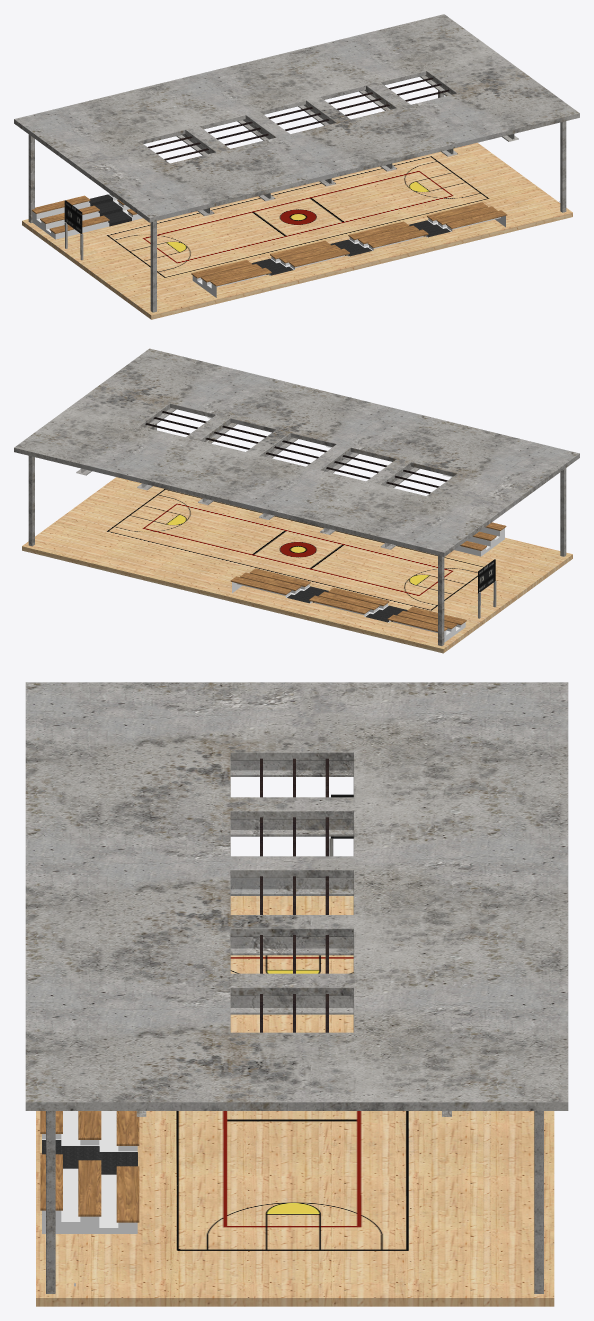
File: gymnasium.obj
3 renders of one model, top to bottom at view 1: azimuth 30°, elevation 25°; view 2: azimuth 150°, elevation 25°; view 3: azimuth 270°, elevation 25°, orthographic. The views are drawn at different scales.
Parts seen in each view (by area): view 1: Object_21, Object_36, Object_12, Object_23, Object_61, Object_16, Object_15, Object_14, Object_13, Object_17, Object_46, Object_40; view 2: Object_21, Object_36, Object_15, Object_23, Object_61, Object_16, Object_17, Object_46, Object_13, Object_12, Object_40; view 3: Object_21, Object_36, Object_12, Object_13, Object_46, Object_23, Object_14.
Part boxes in pixels (x1,y1,x2,y2): Object_21: (14,14,579,222); Object_36: (22,142,572,319); Object_12: (191,202,507,286); Object_23: (148,77,449,160); Object_61: (28,134,156,312); Object_16: (32,193,142,239); Object_15: (32,195,136,233); Object_14: (251,220,450,275); Object_13: (192,216,505,297); Object_17: (89,194,131,226); Object_46: (438,90,566,212); Object_40: (64,200,82,233); Object_21: (14,348,579,556); Object_36: (22,477,572,653); Object_15: (230,568,466,632); Object_23: (145,411,447,493); Object_61: (438,468,566,645); Object_16: (232,582,465,642); Object_17: (287,586,407,622); Object_46: (28,424,156,546); Object_13: (454,527,504,556); Object_12: (460,522,506,550); Object_40: (478,559,495,593); Object_21: (25,682,568,1116); Object_36: (36,896,554,1306); Object_12: (40,1111,139,1222); Object_13: (42,1111,137,1233); Object_46: (46,1111,543,1293); Object_23: (260,758,328,1032); Object_14: (42,1140,137,1174).
Bounding box in the file's own units: 23.95 × 5.63 × 13.07.
Materials: 32 (18 with a texture image).
